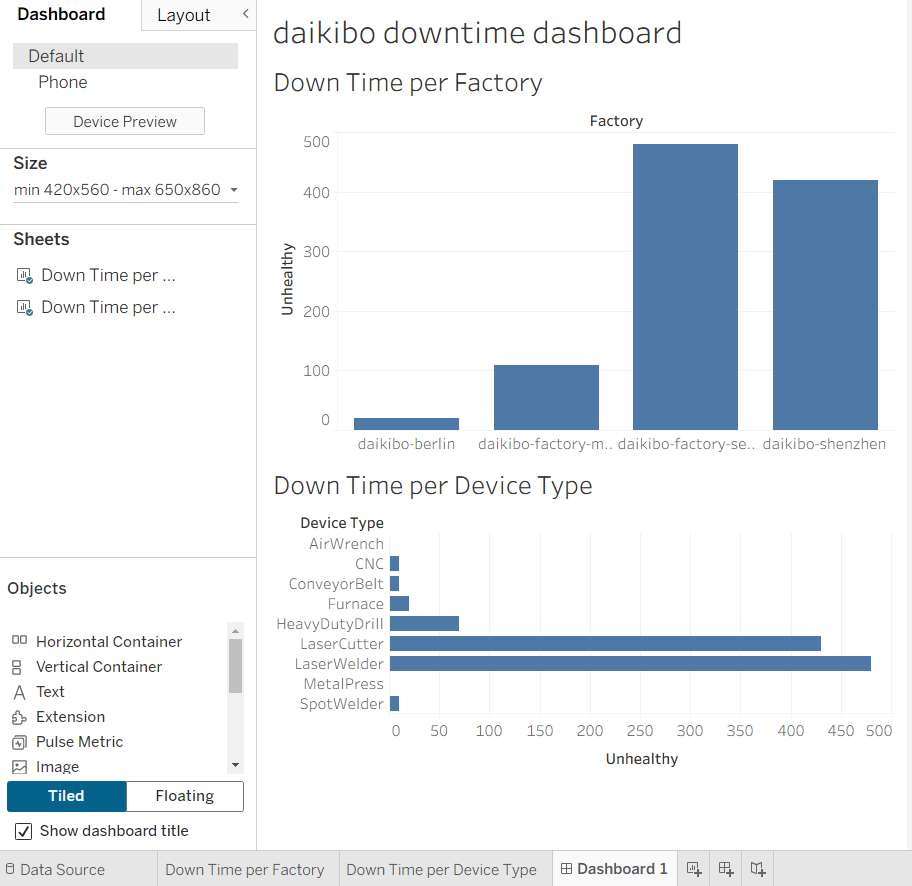

This screenshot's page, from the dashboard's own definition file:
{"tool":"tableau","page":{"name":"Dashboard 1","canvas":[650,860],"ordinal":0},"visuals":[{"type":"worksheet","title":"Down Time per Factory","mark":"Automatic","rows":["Calculation_1509400445558784"],"cols":["factory"],"box":[8,8.1,634,433]},{"type":"worksheet","title":"Down Time per Device Type","mark":"Automatic","rows":["deviceType"],"cols":["Calculation_1509400445558784"],"box":[8,441.1,634,410.8]}]}

Visuals, with their boxes on the page's 650x860 design canvas (x1, y1, x2, y2). These are canvas units, not pixel positions in the 912x886 screenshot, which may show the page scaled, cropped or inside an application window:
"Down Time per Factory" worksheet: box(8, 8, 642, 441)
"Down Time per Device Type" worksheet: box(8, 441, 642, 852)
